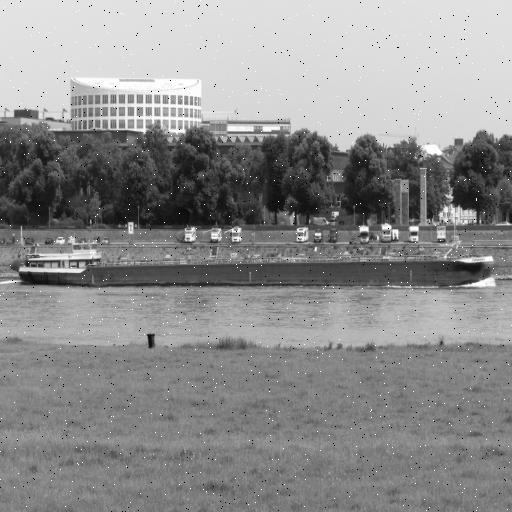tugboat: (16, 236, 107, 300)
